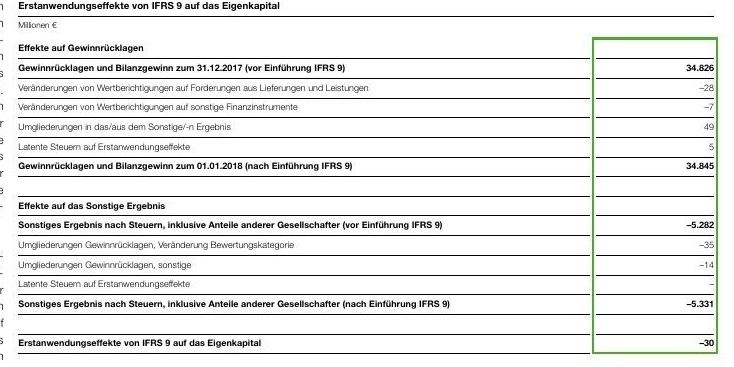table: (0, 0, 734, 367)
